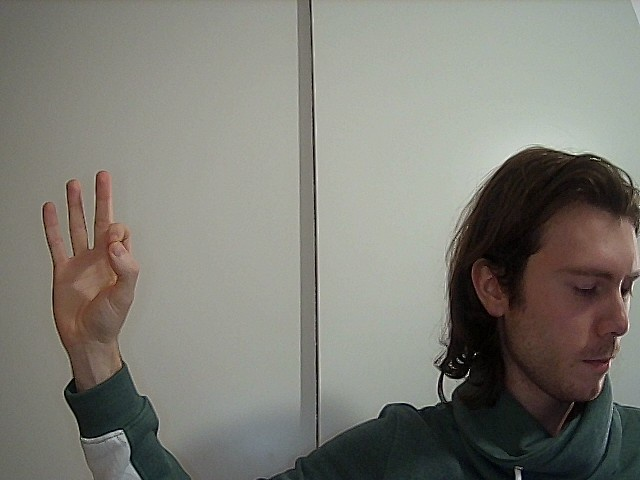f: (27, 164, 165, 346)
